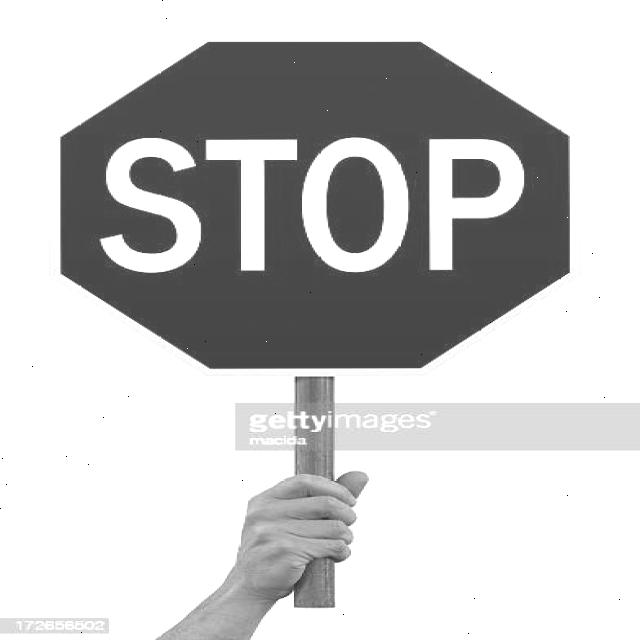Stop-sign: (29, 19, 605, 390)
